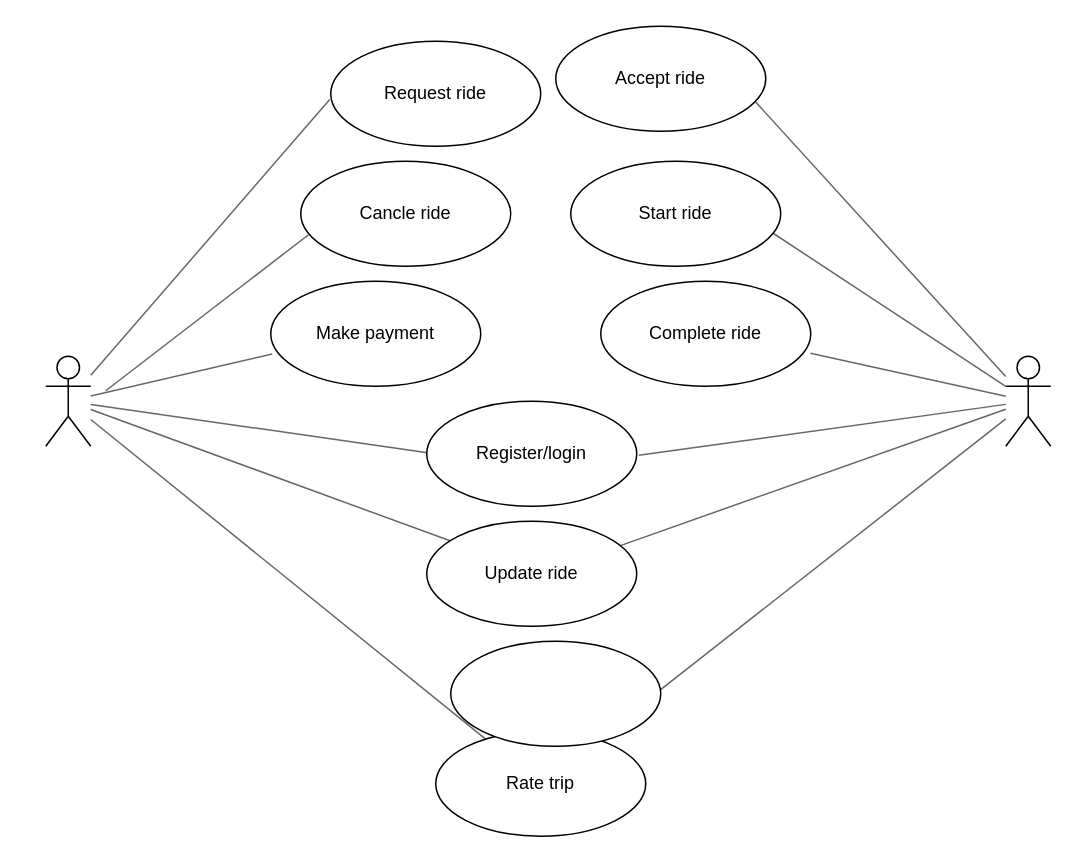
Image size: 1079x863. Some labels were removed from this diagram. Each missing label, with the centre of its shape:
"Driver" belongs at (1027,400).
"Passenger" belongs at (67,400).
"Track ride" belongs at (555,693).
